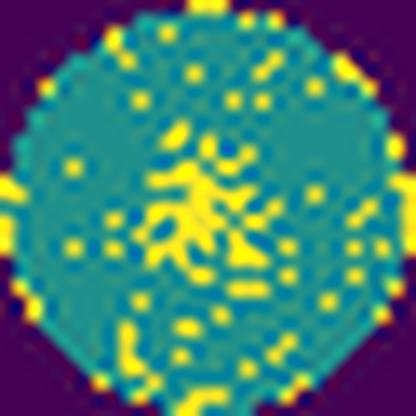Center: (136, 122, 282, 302)
